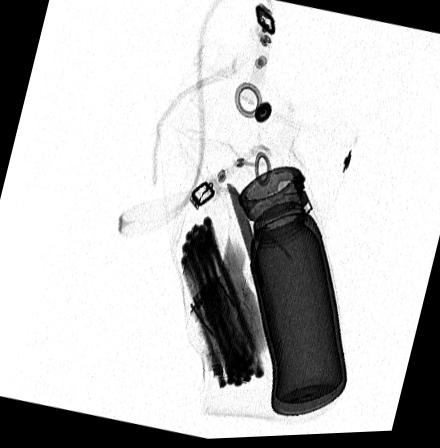Knife: (226, 184, 277, 339)
